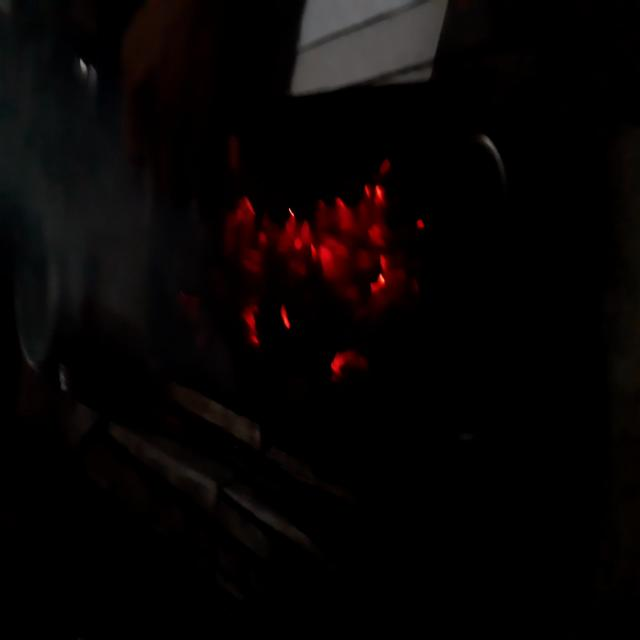Fire: (252, 184, 423, 308)
